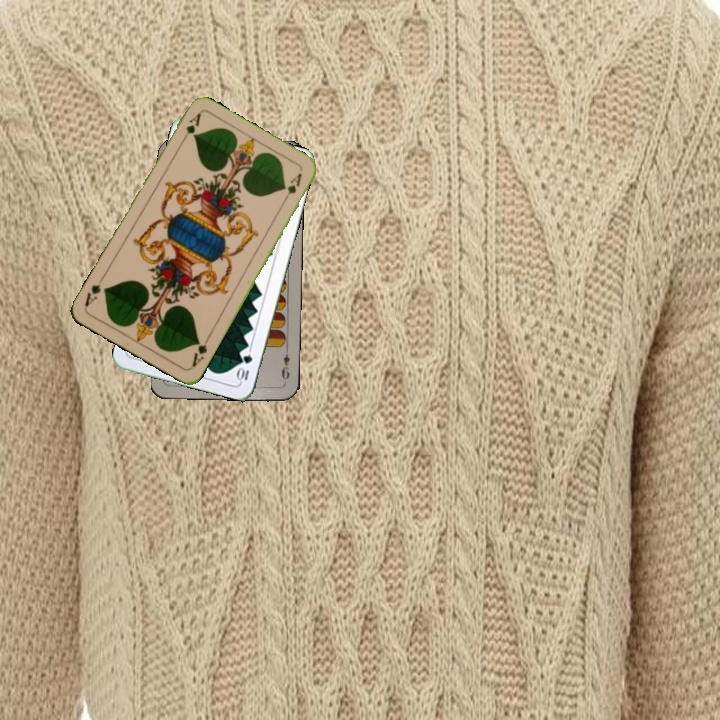E9: (278, 350, 292, 385)
G10: (234, 350, 255, 384)
GA: (177, 109, 204, 146), (188, 332, 212, 370)
